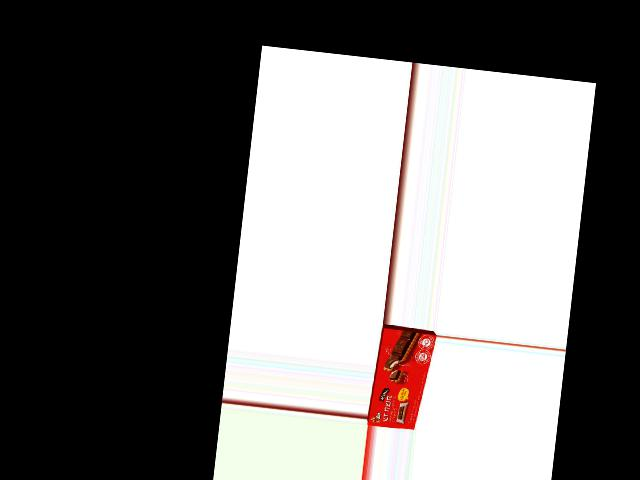chocolate: (371, 325, 431, 431)
